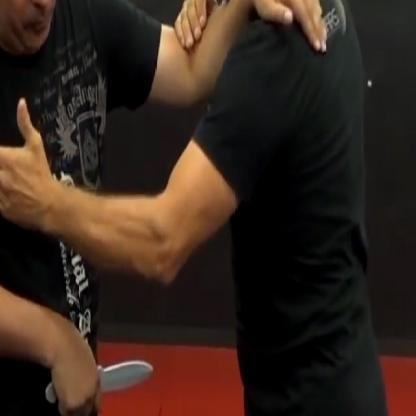knife: (41, 350, 156, 415)
